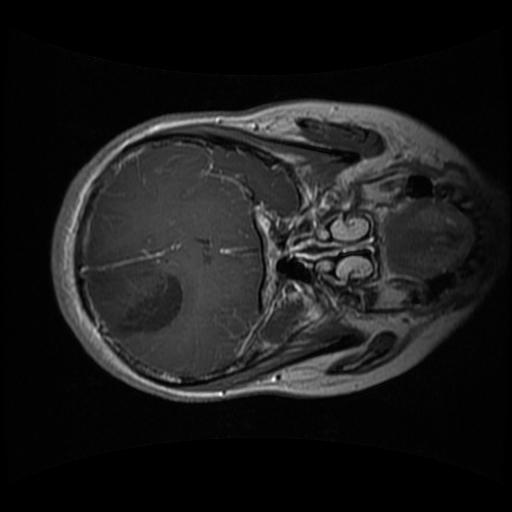glioma: (106, 271, 184, 341)
